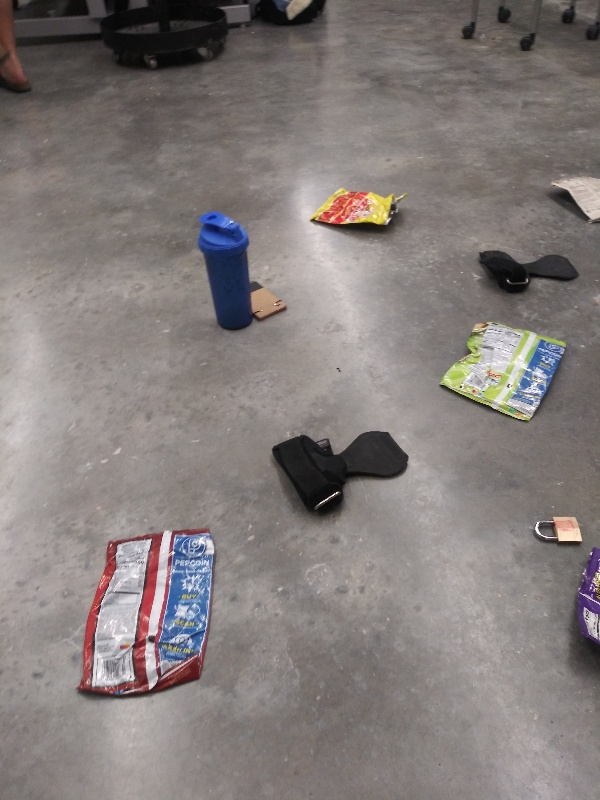bag: (74, 520, 225, 701), (436, 318, 574, 425), (306, 184, 411, 239), (544, 169, 600, 232), (573, 544, 600, 658)
